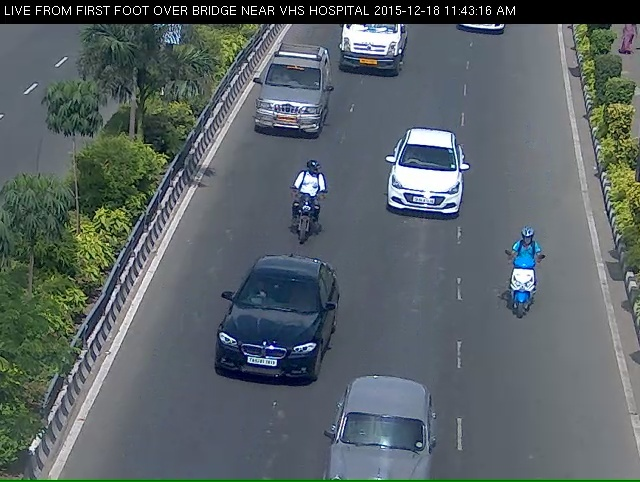Bus: (334, 20, 409, 90)
Car: (211, 262, 311, 425), (371, 130, 476, 238), (321, 395, 434, 481), (252, 56, 321, 158)
Person: (496, 255, 543, 350), (293, 182, 326, 263)
